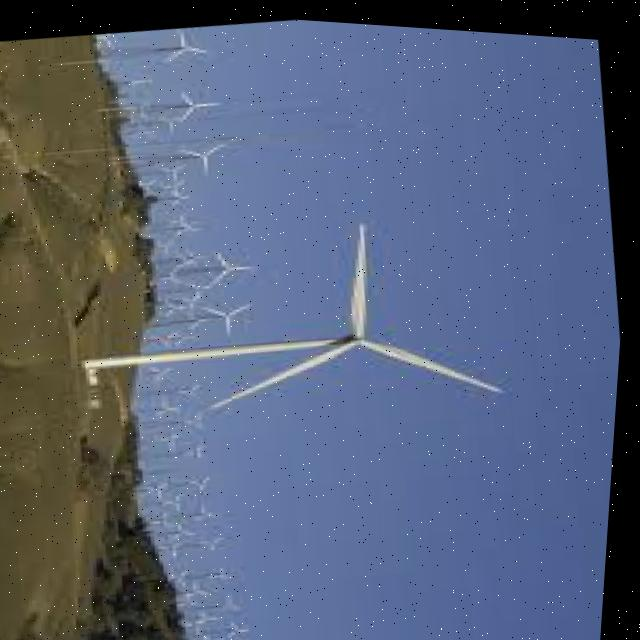solid-blade: (213, 339, 359, 408), (366, 334, 508, 385), (355, 218, 369, 331)
wind-turbine: (86, 218, 508, 408)
